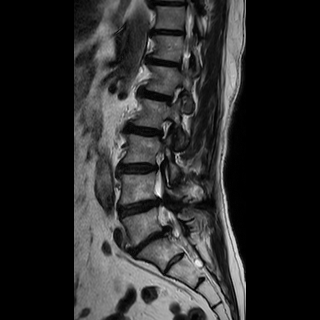LFS0: (151, 114, 179, 145)
LFS1: (160, 80, 189, 112)
